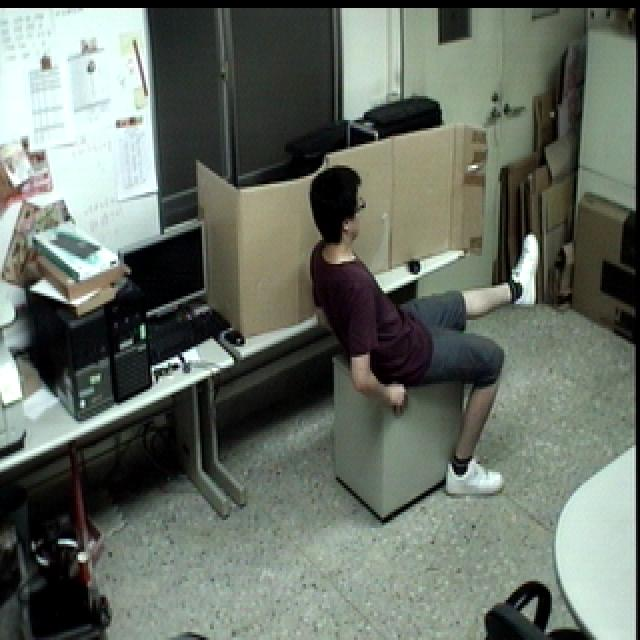sit: (303, 159, 538, 509)
